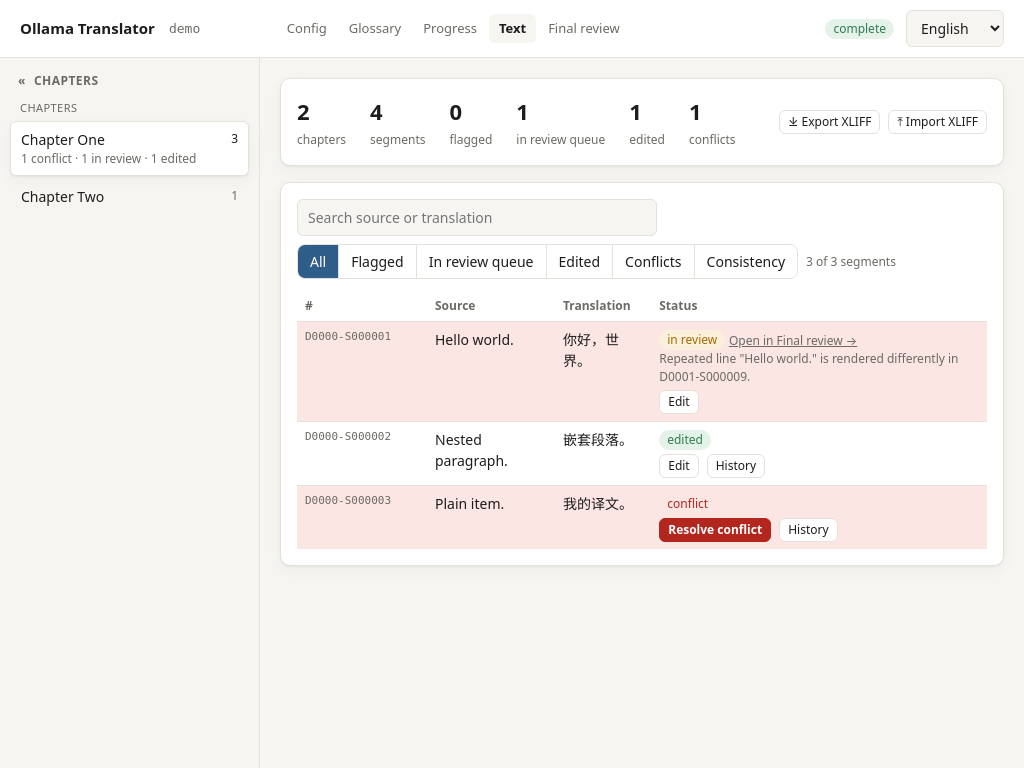
Test: Text tab › reading the book › filters to book-level consistency drift
Expected: the text "Hello world." is shown, [427,322,555,422]
Click the radio button labelled "Consistency". click: (746, 262)
box: [695,245,797,278]
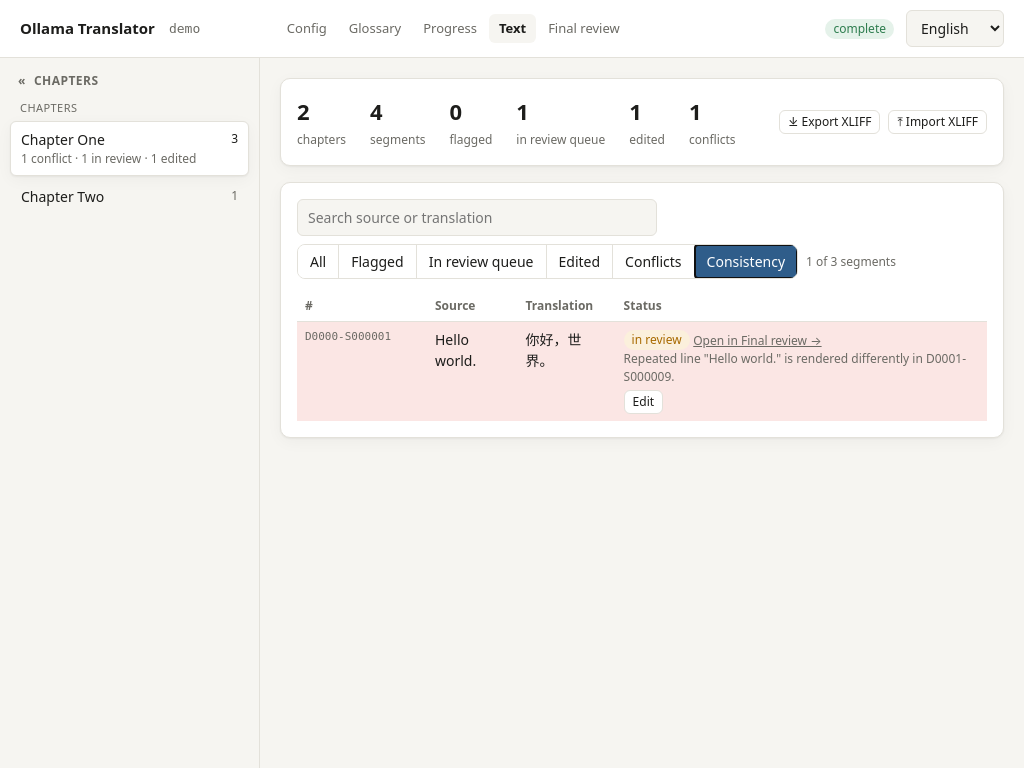
Expected: the text "rendered differently in D0001-S000009" is shown, [624,350,966,385]
Now the text "1 of 3 segments" is shown, box [806,252,896,270]
Now the text "Nested paragraph." is gone
